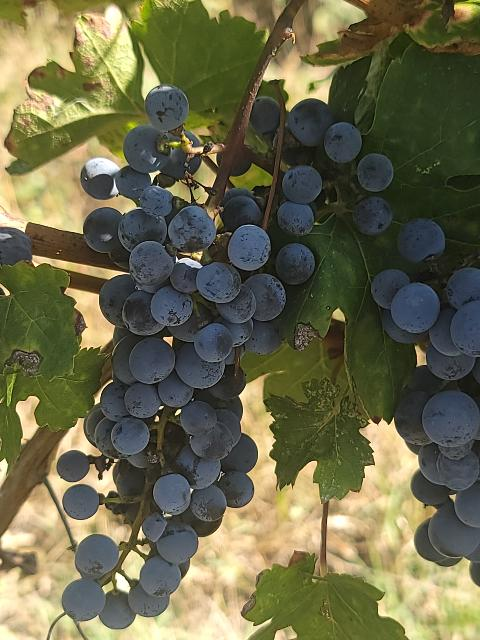grapes: (63, 85, 314, 629), (371, 268, 480, 574)
